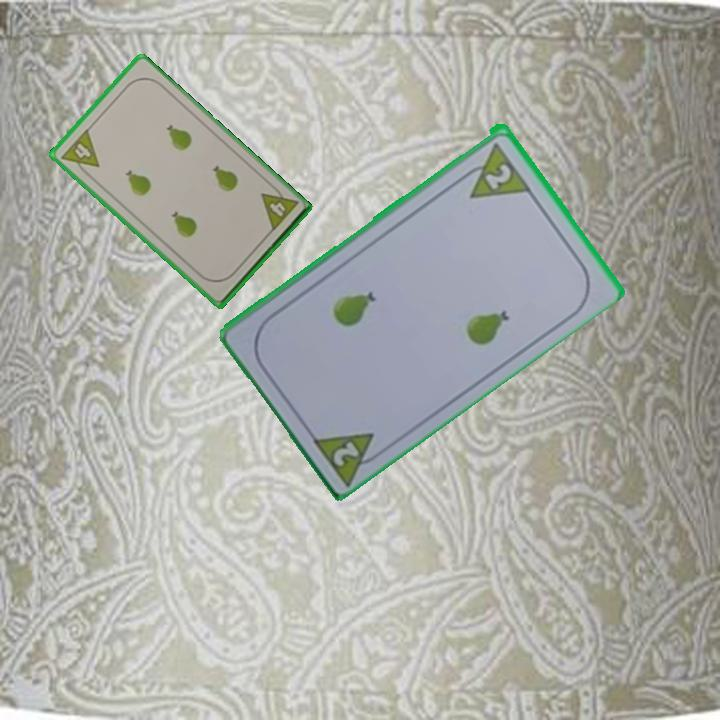2p: (481, 159, 515, 192), (329, 437, 363, 469)
4p: (57, 125, 102, 180), (257, 180, 301, 235)
